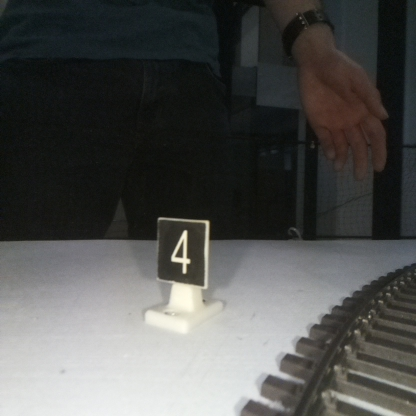black-stop-4: (158, 218, 206, 326)
